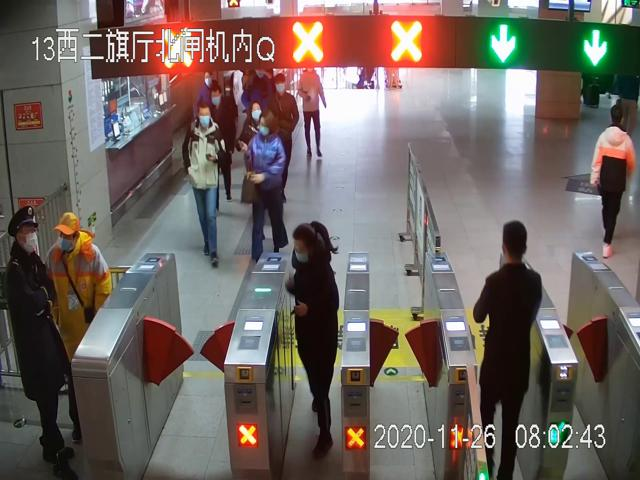person: (1, 205, 78, 480), (474, 223, 539, 480), (44, 212, 114, 442), (286, 220, 340, 460), (241, 110, 290, 262), (182, 102, 226, 268)
